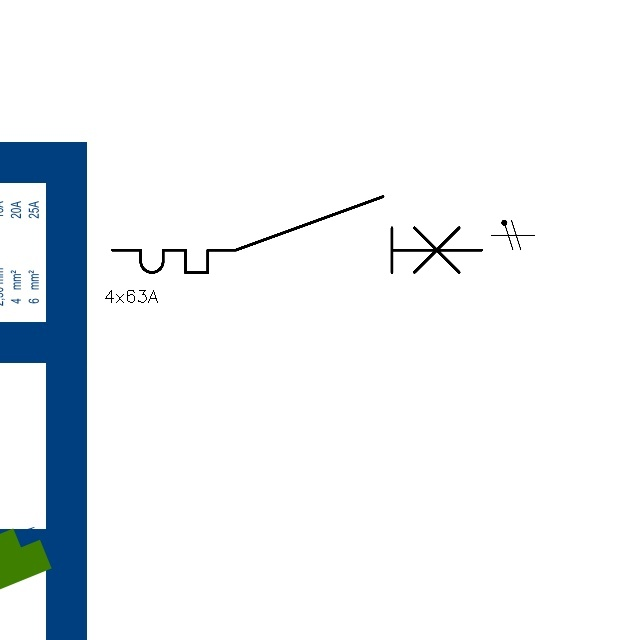interruptor_termomagnetico: (103, 187, 491, 282)
